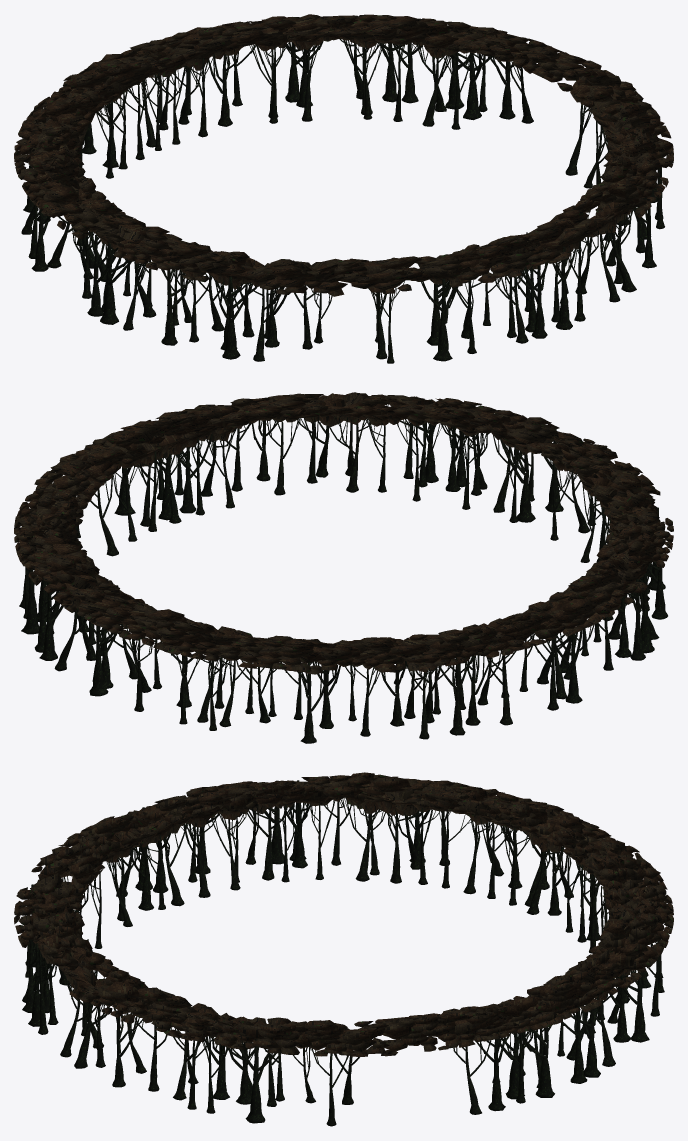
Rendered from forest_canopy.glb.
3 views of the same model, one above another, from view 1: azimuth 30°, elevation 25°; view 2: azimuth 150°, elevation 25°; view 3: azimuth 270°, elevation 25° (orthographic).
Parts seen in each view (by area): view 1: ForestCanopy; view 2: ForestCanopy; view 3: ForestCanopy.
Part boxes in pixels (x1,y1,x2,y2): ForestCanopy: (14,14,673,363); ForestCanopy: (14,392,673,743); ForestCanopy: (14,772,673,1126).
Size of what is drawn, in the model's own units: 118 by 16.98 by 118.
Materials: 1 (1 with a texture image).
